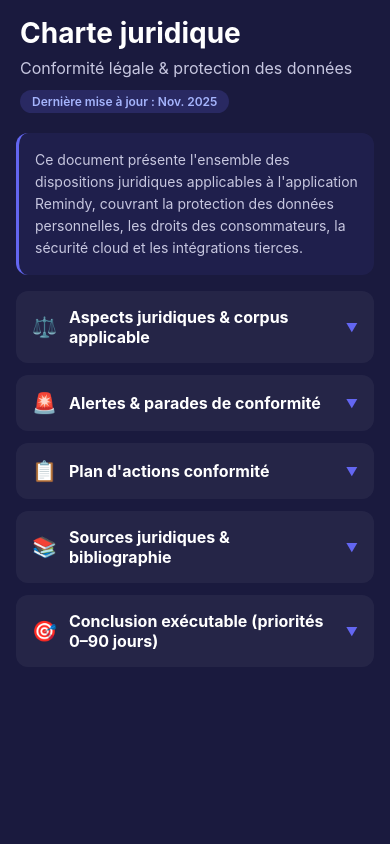
LegalScreen › should render bold-type paragraphs when actions section is expanded
Click the element with test id "section-actions" at (195, 471), box x1=32 y1=459 x2=358 y2=483
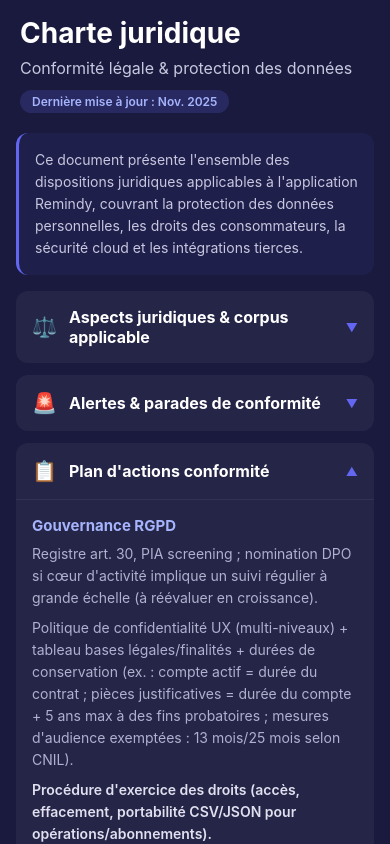
Now the text "Procédure d'exercice des droits" is shown, box x1=32 y1=781 x2=303 y2=842
